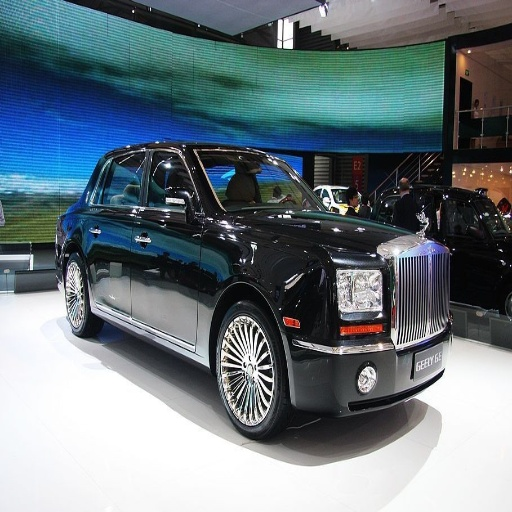front_right_door: (131, 149, 203, 349)
trunk: (333, 308, 443, 355)
